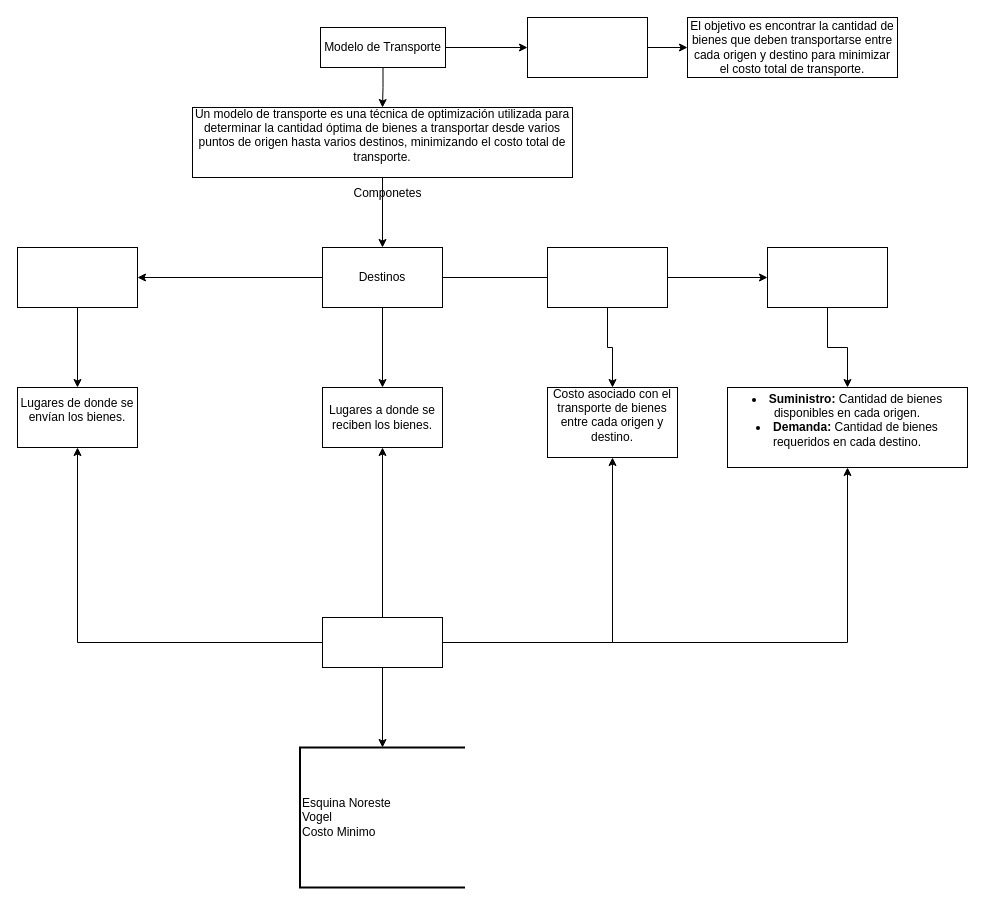
Some shapes in this 985 by 906 pixel diagram are drawn without their labels. Each missing label, with the box of its shape:
Costos de Transporte: (766, 246, 888, 308)
Demandas Y Sumistros: (546, 246, 668, 308)
Metodos de Resoucion: (322, 616, 442, 668)
Objetivo: (526, 16, 648, 78)
Origenes: (16, 246, 138, 308)
